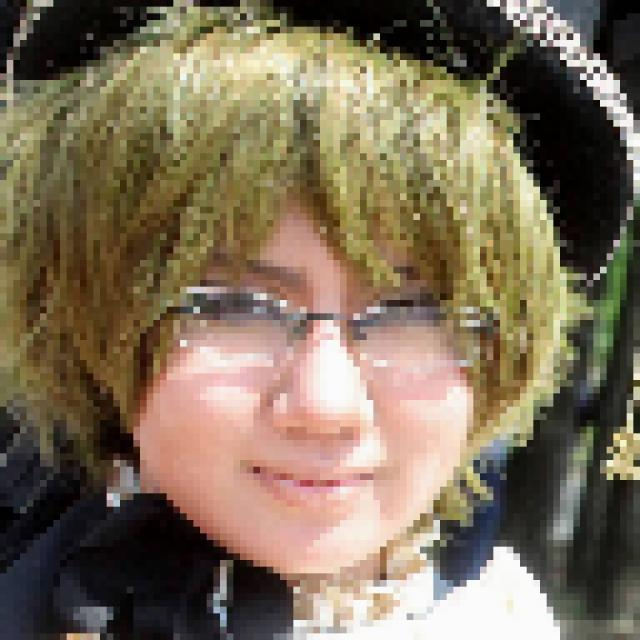Happy: (99, 183, 507, 602)
